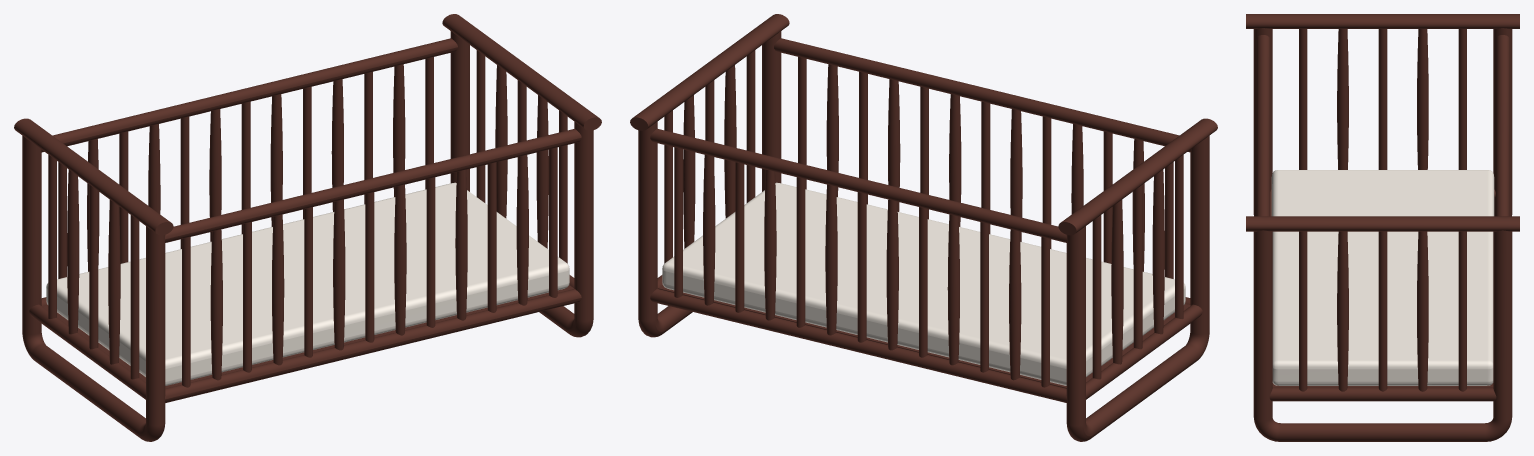
Rendered from Baby cribs.glb.
3 views of the same model, side by side, from view 1: azimuth 30°, elevation 25°; view 2: azimuth 150°, elevation 25°; view 3: azimuth 270°, elevation 25° (orthographic). The views are drawn at different scales.
Visible parts, largest first — view 1: Round (×42), Mattress, Modern (×2), MattressSupportSlats; view 2: Round (×42), Mattress, Modern (×2), MattressSupportSlats; view 3: Mattress, Round (×15), Modern (×2), MattressSupportSlats.
Part boxes in pixels (box(x1,y1,x2,y2)): Round (×42): box(14, 14, 601, 402); Mattress: box(46, 182, 569, 385); Modern (×2): box(22, 31, 593, 441); MattressSupportSlats: box(42, 285, 574, 388); Round (×42): box(630, 14, 1217, 402); Mattress: box(662, 182, 1185, 385); Modern (×2): box(638, 31, 1209, 441); MattressSupportSlats: box(658, 285, 1190, 388); Mattress: box(1271, 170, 1494, 385); Round (×15): box(1246, 14, 1519, 401); Modern (×2): box(1253, 28, 1512, 441); MattressSupportSlats: box(1270, 191, 1493, 387).
Bounding box in the file's own units: 1.46 × 0.7197 × 0.8.
